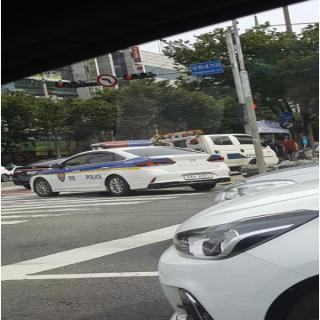Police_car: (29, 138, 231, 194)
